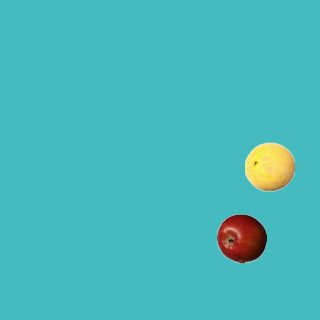Apple Braeburn: (216, 213, 266, 263)
Cantaloupe 1: (244, 141, 294, 191)
